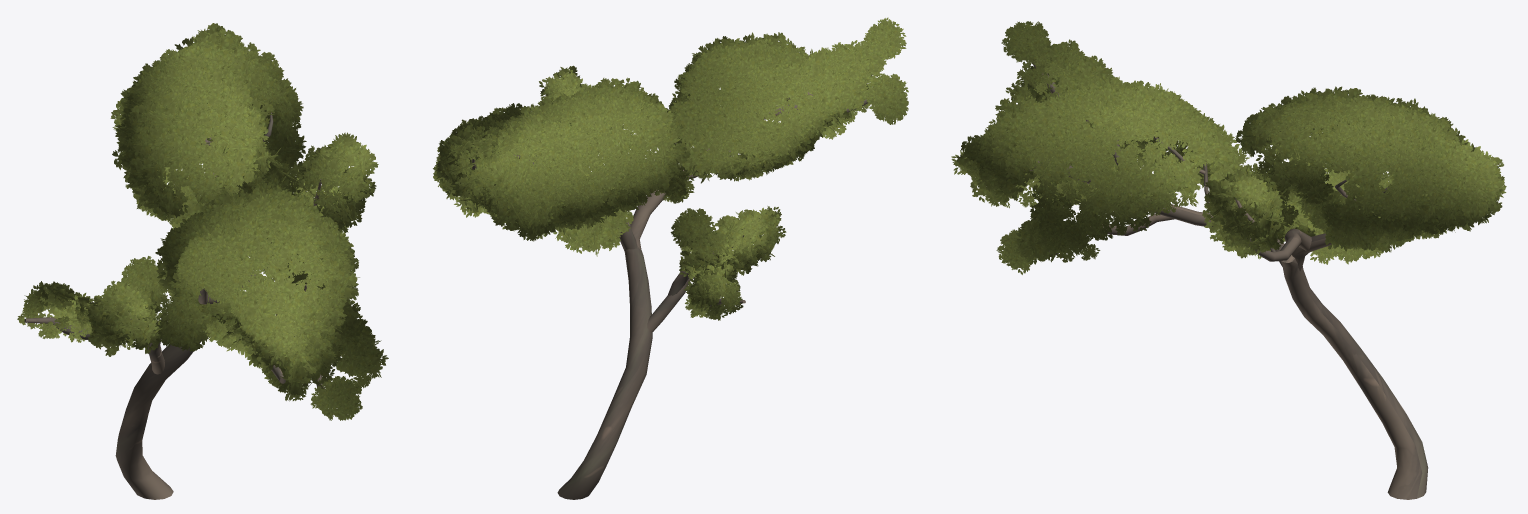
Rendered from SM_Tree_01.fbx.
The picture shows the model from 3 angles, left to right: view 1: azimuth 30°, elevation 25°; view 2: azimuth 150°, elevation 25°; view 3: azimuth 270°, elevation 25°; orthographic projection. The views are drawn at different scales.
Visible parts, largest first — view 1: SM_Tree_01_LOD0; view 2: SM_Tree_01_LOD0; view 3: SM_Tree_01_LOD0.
Part boxes in pixels (x1,y1,x2,y2): SM_Tree_01_LOD0: (17,23,388,499); SM_Tree_01_LOD0: (433,17,908,499); SM_Tree_01_LOD0: (951,21,1506,499).
Size of the model in its own units: 683 by 1070 by 855.
2 materials, 2 textured.
